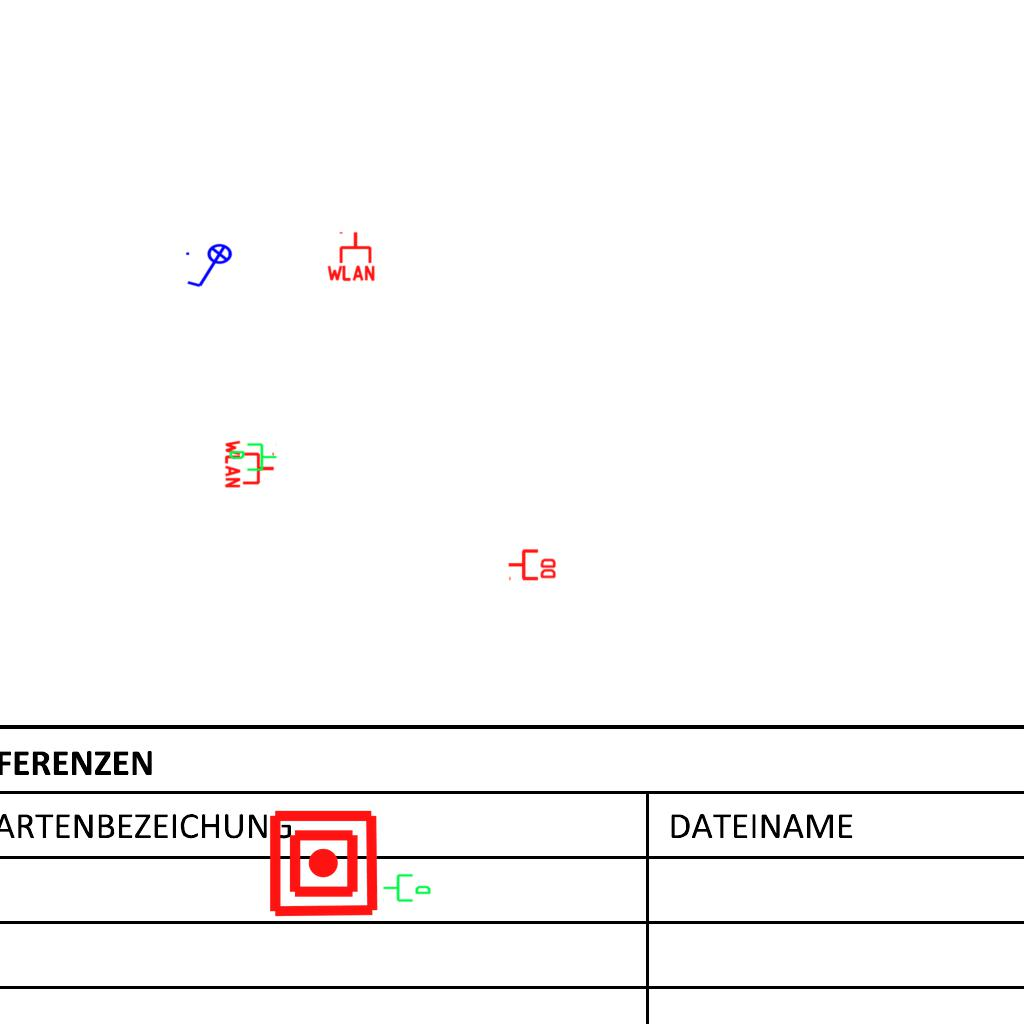Ausschalter_beleuchtet: (183, 243, 239, 291)
Datenanschluss_einfach: (382, 870, 432, 904), (228, 441, 278, 475)
Datenanschluss_zweifach: (507, 547, 558, 581)
NAM-Nichtautomatischer_Melder: (267, 807, 380, 920)
WLAN: (224, 438, 276, 490), (325, 230, 377, 282)
